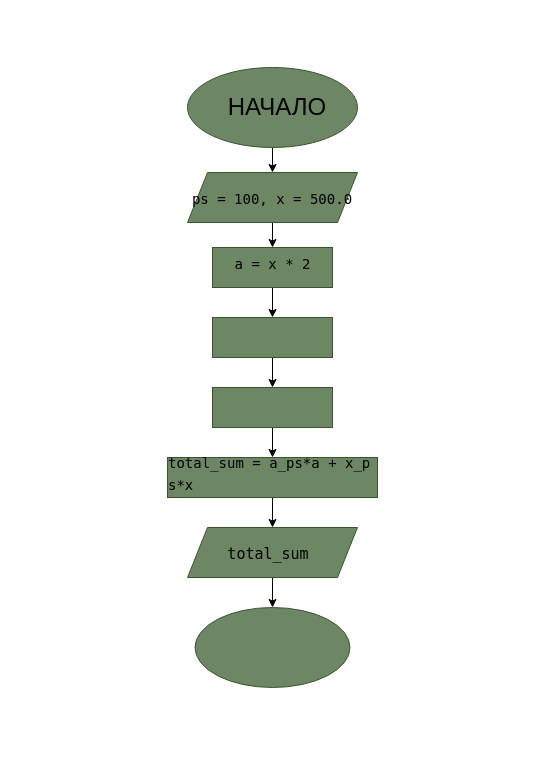
The diagram is 554 pixels wide and 764 high, and some of its shapes have lost their labels. Here are the shapes that lost their labels. From the top down, the centre of each, then its label:
point 272,337: x_ps = ps * 3/4
point 272,407: a_ps = ps - x_ps
point 272,647: КОНЕЦ
